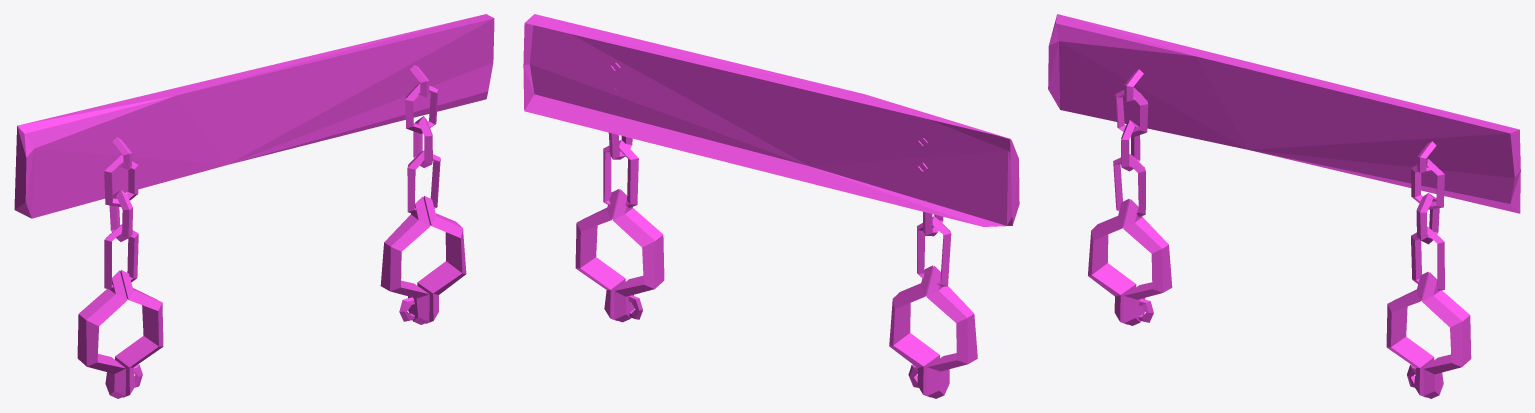
File: SM_Handcuffs_Fantasy_Wood.fbx
3 renders of one model, left to right at view 1: azimuth 30°, elevation 25°; view 2: azimuth 150°, elevation 25°; view 3: azimuth 330°, elevation 25°, orthographic. The views are drawn at different scales.
Visible parts, largest first — view 1: SM_Handcuffs_Fantasy_Wood; view 2: SM_Handcuffs_Fantasy_Wood; view 3: SM_Handcuffs_Fantasy_Wood.
Boxes of the visible parts, left/top/right/bottom form: SM_Handcuffs_Fantasy_Wood: left=14, top=14, right=494, bottom=398; SM_Handcuffs_Fantasy_Wood: left=523, top=14, right=1019, bottom=398; SM_Handcuffs_Fantasy_Wood: left=1048, top=14, right=1520, bottom=398.
Size of the model in its own units: 1.18 by 0.6777 by 0.1016.
